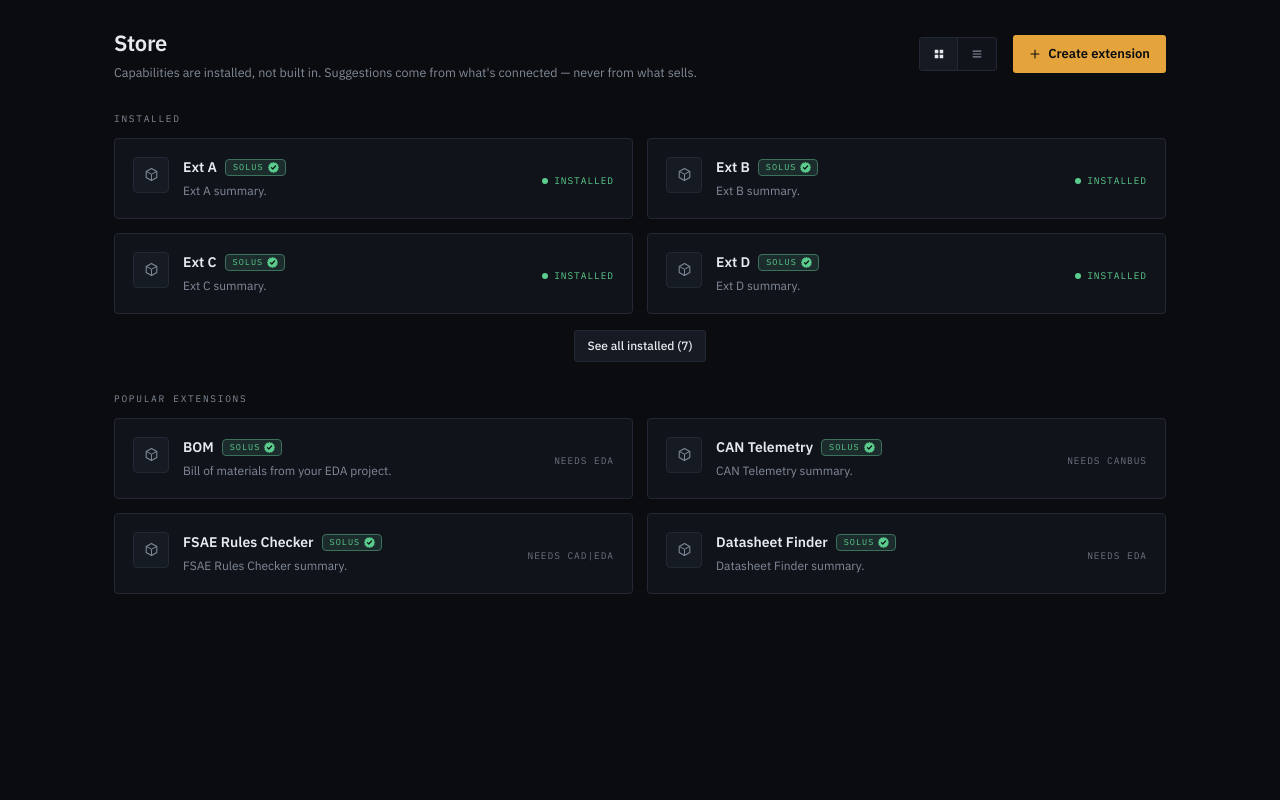
Test: StoreScreen › opens the create-extension dialog
Check: the element with test id "store-installed" is shown, box [114,138,1166,314]
What coordinates should you click on to do the following:
click the button "Create extension"
I would click on:
 (1090, 54)
Its box is [1013,35,1166,73].
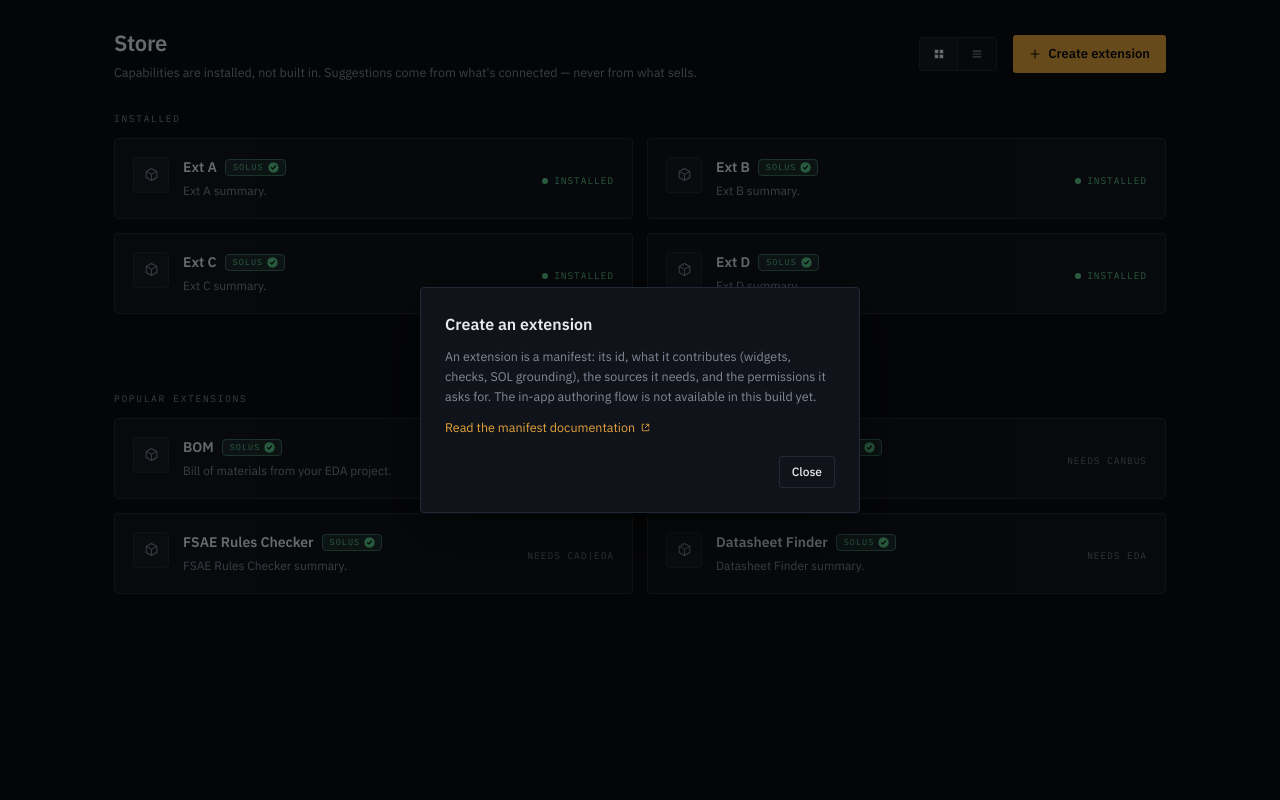
Check: the heading "Create an extension" is shown, box [445,314,592,334]
